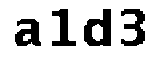1: (49, 8, 79, 50)
3: (120, 7, 150, 51)
a: (12, 16, 43, 48)
d: (81, 7, 117, 50)
